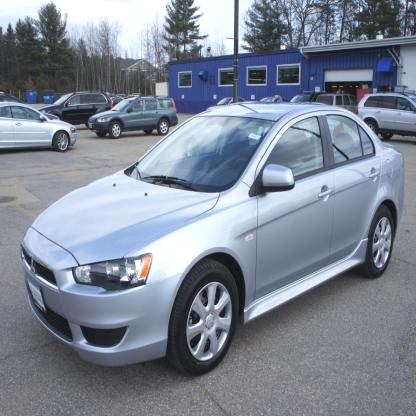Vehicle: (19, 100, 406, 377)
